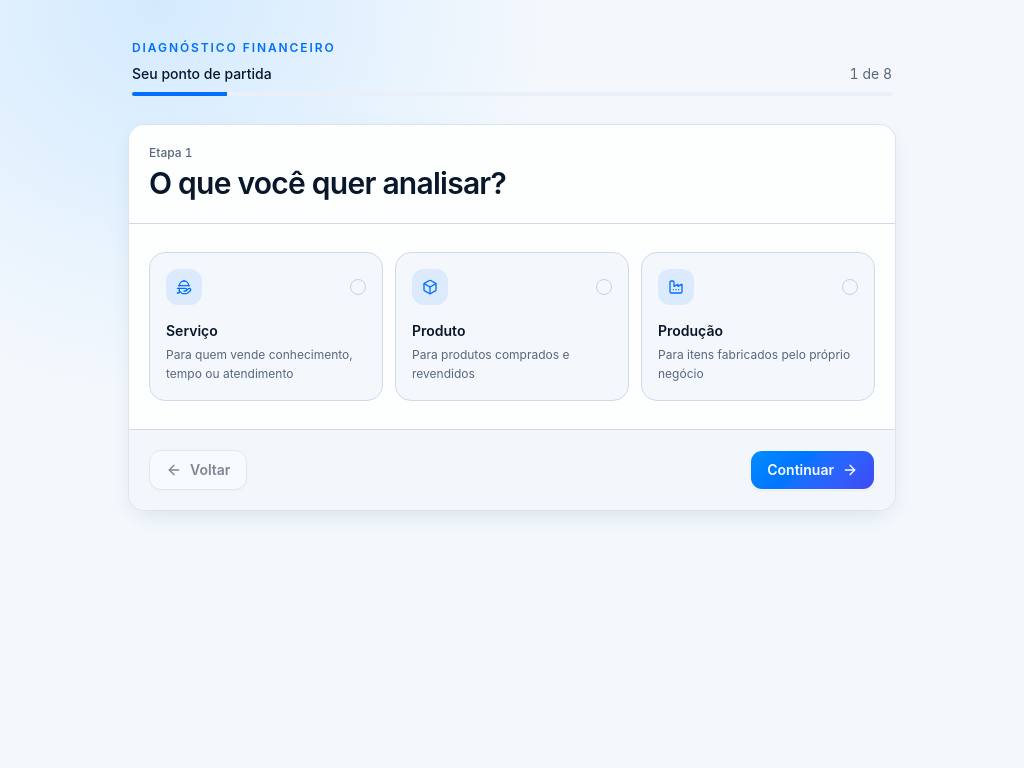
Test: QuickDiagnosisWizard category orchestration › keeps a free user on the mode step and explains the plan
What coordinates should you click on to do the following:
click the 2nd radio button named "Produto"
I would click on:
 (604, 286)
Its box is [596,278,612,294].
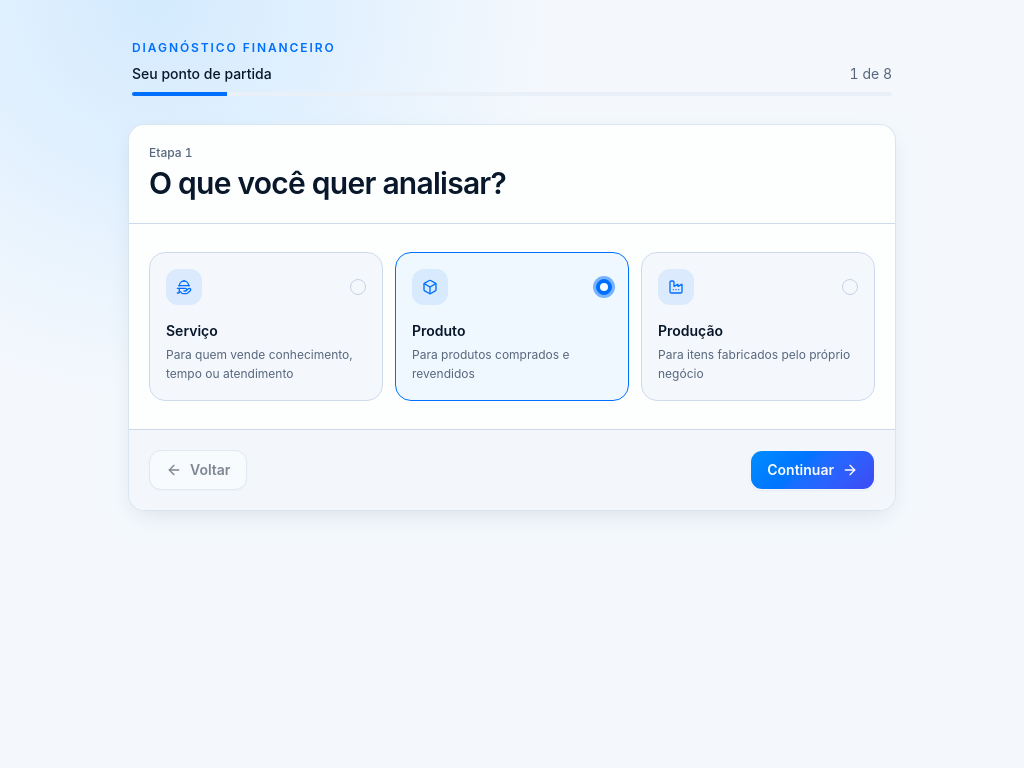
What coordinates should you click on to do the following:
click the button "Continuar"
I would click on:
 (813, 470)
Its box is [750,450,875,490].
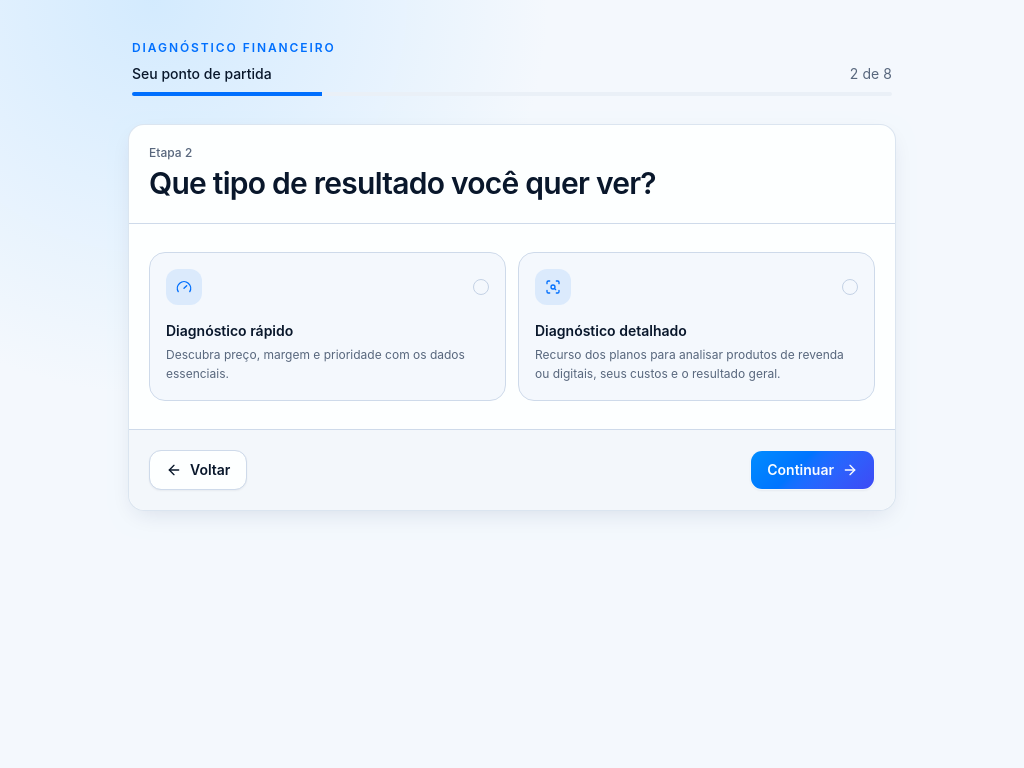
What coordinates should you click on to do the following:
click the 2nd radio button named "Diagnóstico detalhado"
I would click on:
 (850, 286)
Its box is [842,278,858,294].
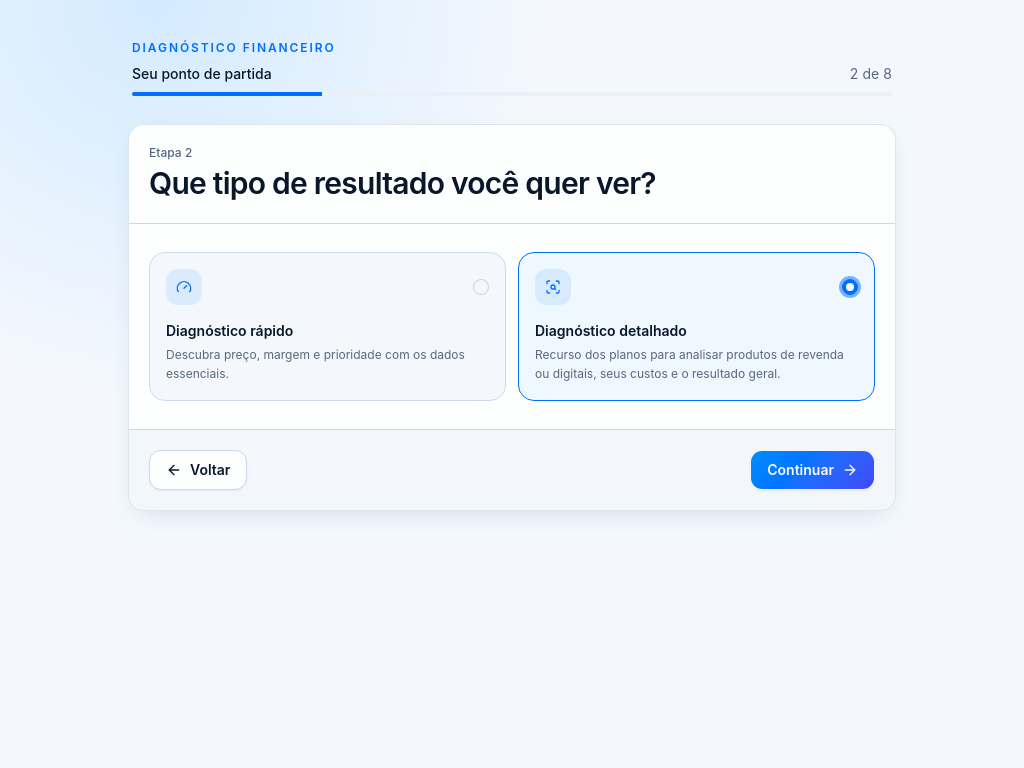
What coordinates should you click on to do the following:
click the button "Continuar"
I would click on:
 (813, 470)
Its box is [750,450,875,490].
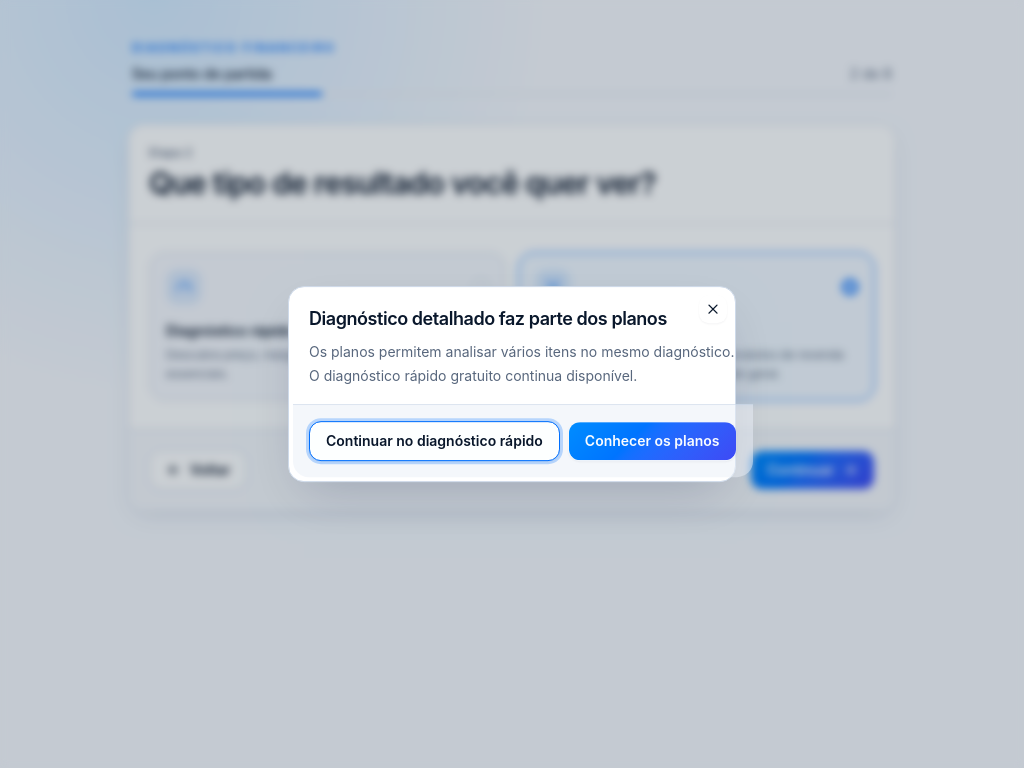
Expected: the heading "Que tipo de resultado você quer ver?" is shown, [149,165,656,201]
Expected: the heading "Diagnóstico detalhado faz parte dos planos" is shown, [309,308,667,329]
